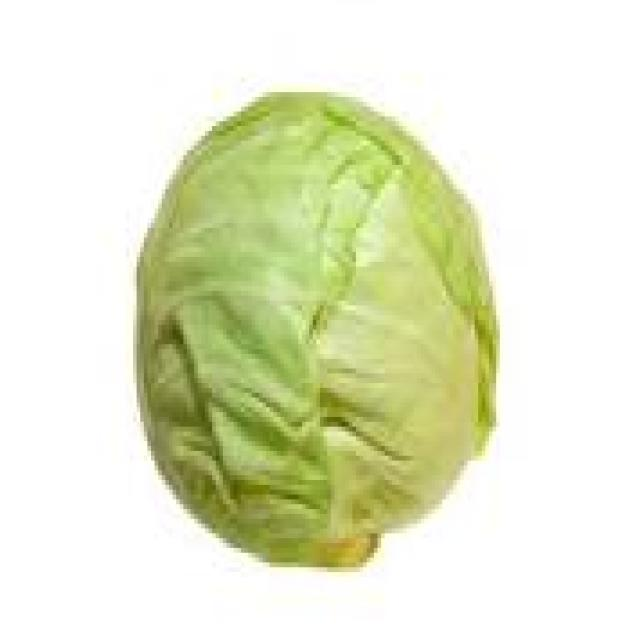cabbage: (90, 73, 507, 567)
